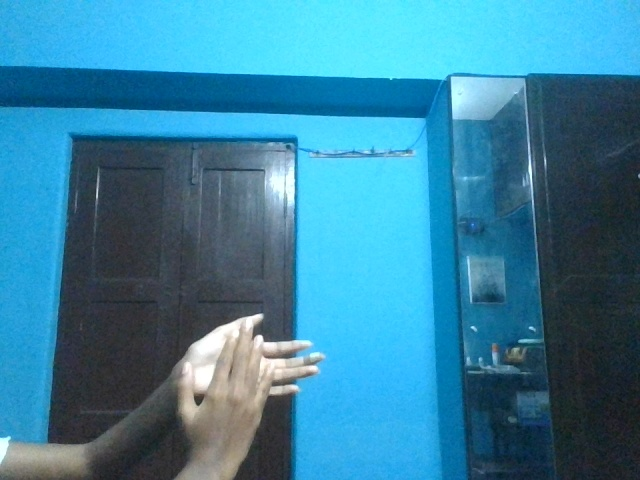H: (155, 309, 332, 470)
